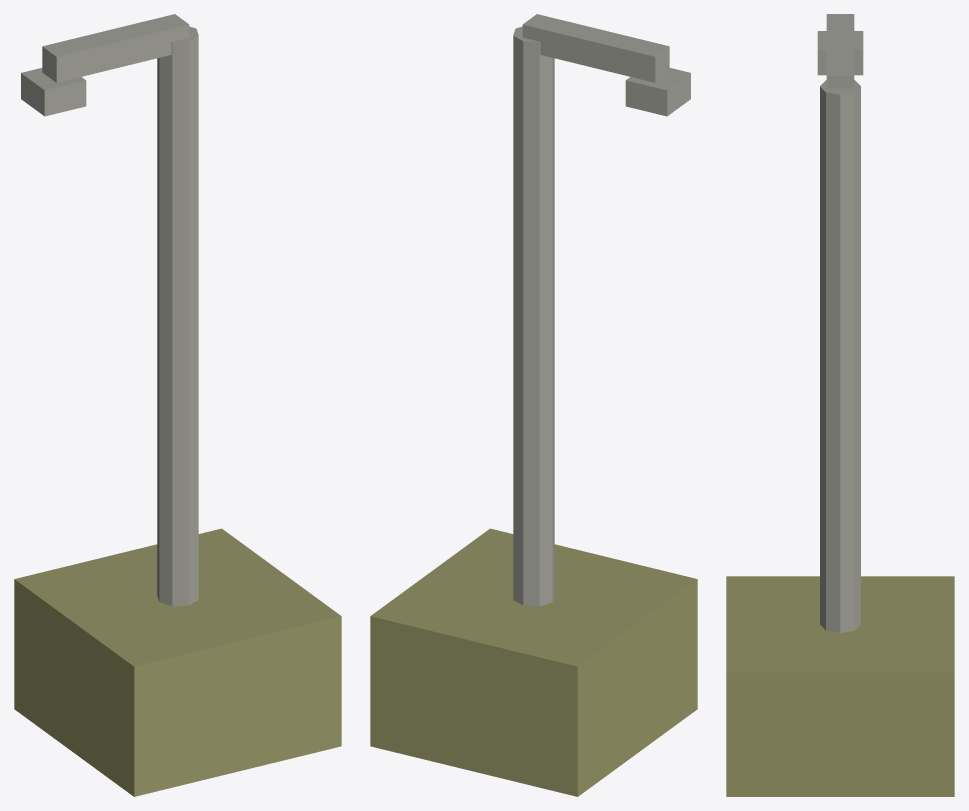
Rendered from SM_PosteFoco_v0_Hormigon_LOD0.fbx.
3 views of the same model, side by side, from view 1: azimuth 30°, elevation 25°; view 2: azimuth 150°, elevation 25°; view 3: azimuth 270°, elevation 25° (orthographic). The views are drawn at different scales.
Parts seen in each view (by area): view 1: SM_poste_foco_v0_LOD0; view 2: SM_poste_foco_v0_LOD0; view 3: SM_poste_foco_v0_LOD0.
Boxes of the visible parts, left/top/right/bottom form: SM_poste_foco_v0_LOD0: left=14, top=14, right=341, bottom=796; SM_poste_foco_v0_LOD0: left=370, top=14, right=697, bottom=796; SM_poste_foco_v0_LOD0: left=726, top=14, right=954, bottom=796.
Size of the model in its own units: 0.6 by 1.63 by 0.5.
